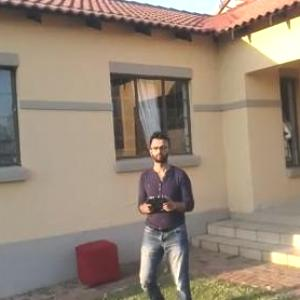follow: (121, 128, 193, 299)
